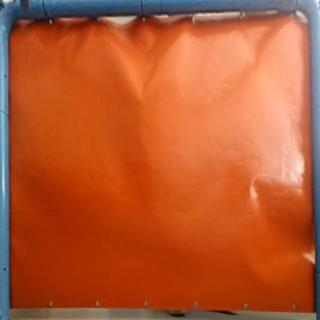Hit-hRxx: (132, 89, 148, 102)
